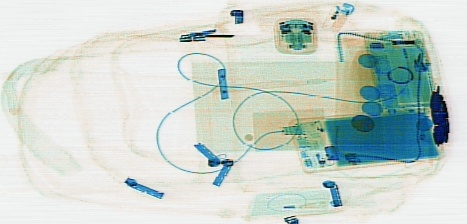lighter: (311, 1, 356, 43)
